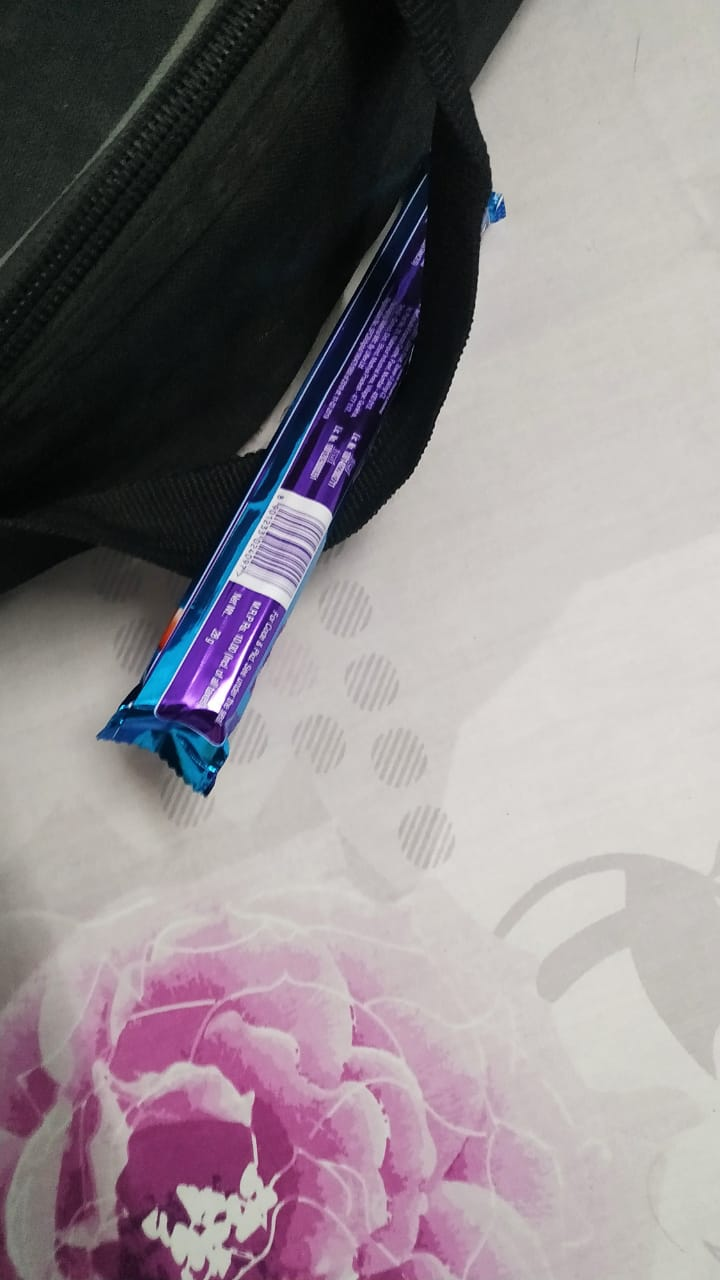perk: (90, 174, 578, 812)
